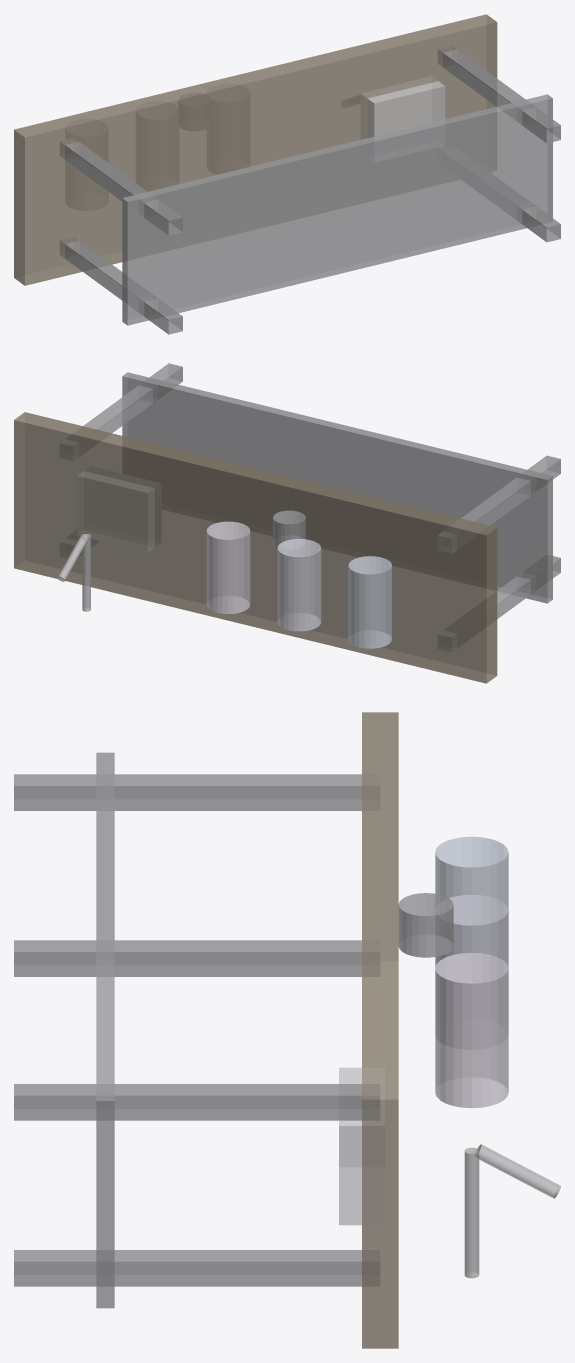
File: lab_bench.glb
3 views of the same model, one above another, from view 1: azimuth 30°, elevation 25°; view 2: azimuth 150°, elevation 25°; view 3: azimuth 270°, elevation 25° (orthographic). The views are drawn at different scales.
Visible parts, largest first — view 1: Shelf, Countertop, Sink, Leg_-4_1, Leg_4_1, Leg_-4_-1, Leg_4_-1; view 2: Countertop, Shelf, Sink, Flask_2, Flask_1, Flask_0, Leg_-4_1, Leg_4_1, Leg_-4_-1, Burner, FaucetPipe, FaucetHead; view 3: Countertop, Leg_4_1, Leg_4_-1, Leg_-4_1, Leg_-4_-1, Flask_2, Shelf, Sink, Flask_0, Flask_1, Burner, FaucetPipe (+1 smaller).
Boxes of the visible parts, x1,y1,x2,y2 form: Shelf: [122, 94, 552, 325]; Countertop: [14, 14, 497, 285]; Sink: [361, 76, 445, 139]; Leg_-4_1: [60, 138, 182, 235]; Leg_4_1: [438, 45, 560, 143]; Leg_-4_-1: [60, 237, 182, 334]; Leg_4_-1: [516, 202, 560, 242]; Countertop: [14, 412, 497, 683]; Shelf: [122, 372, 552, 603]; Sink: [77, 471, 154, 551]; Flask_2: [206, 521, 250, 613]; Flask_1: [277, 539, 321, 631]; Flask_0: [348, 556, 391, 648]; Leg_-4_1: [438, 455, 560, 553]; Leg_4_1: [60, 363, 182, 460]; Leg_-4_-1: [438, 556, 560, 652]; Burner: [273, 510, 305, 546]; FaucetPipe: [82, 534, 90, 611]; FaucetHead: [57, 534, 88, 581]; Countertop: [362, 712, 398, 1348]; Leg_4_1: [14, 1084, 379, 1120]; Leg_4_-1: [14, 1250, 379, 1286]; Leg_-4_1: [14, 774, 379, 810]; Leg_-4_-1: [14, 940, 379, 976]; Flask_2: [435, 952, 508, 1108]; Shelf: [96, 752, 114, 1308]; Sink: [339, 1067, 384, 1225]; Flask_0: [435, 836, 508, 909]; Flask_1: [435, 894, 508, 968]; Burner: [398, 893, 453, 957]; FaucetPipe: [464, 1147, 479, 1278].
Size of the model in its own units: 10 by 3.05 by 5.97.
